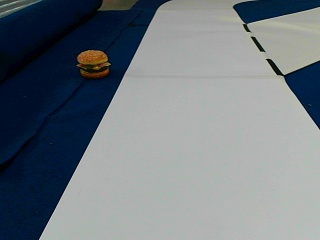burger: (77, 48, 109, 77)
